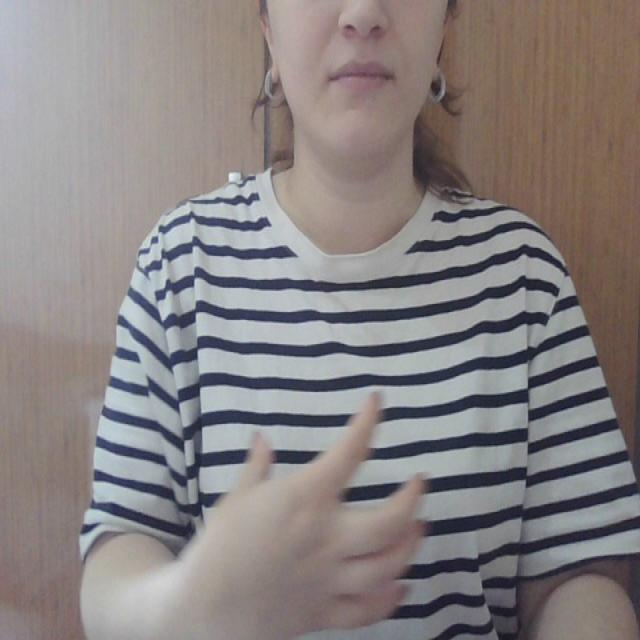Anne: (167, 387, 589, 636)
